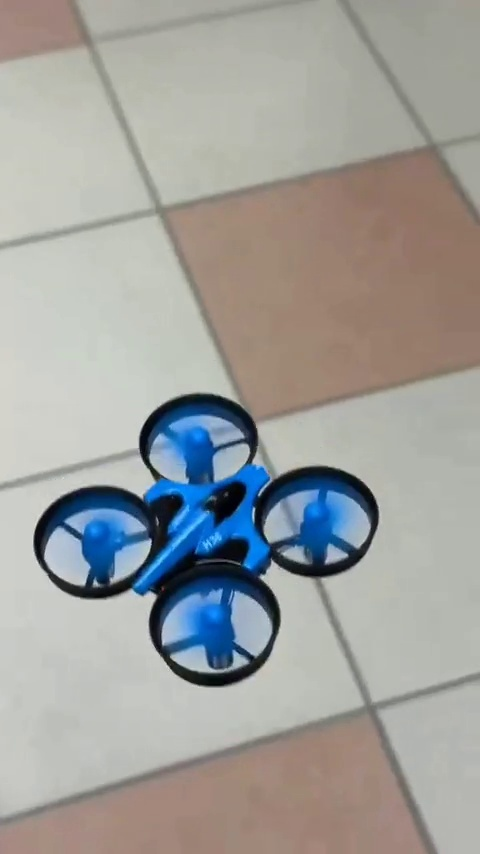drone: (32, 393, 384, 680)
